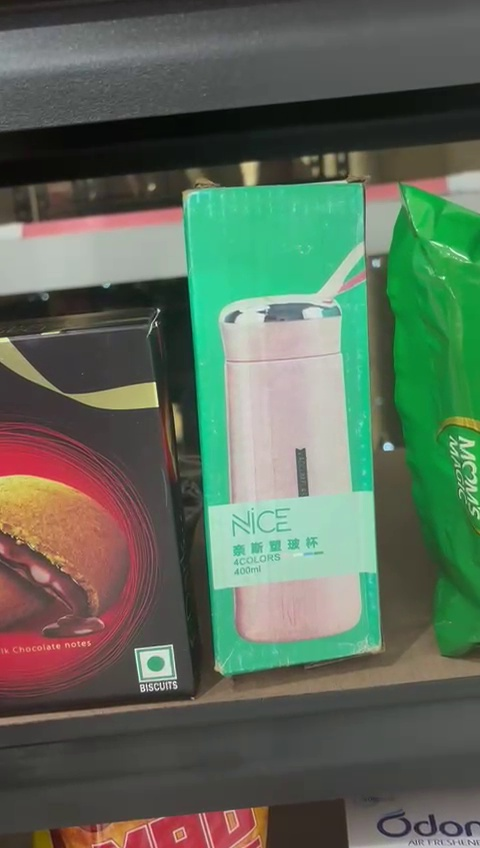Bottle: (180, 182, 399, 678)
